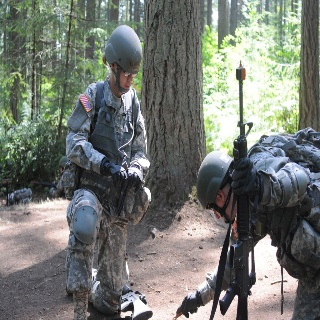rifle: (219, 58, 259, 320)
